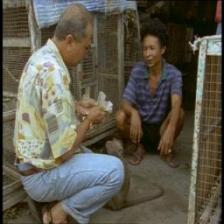monkey: (100, 132, 127, 158)
